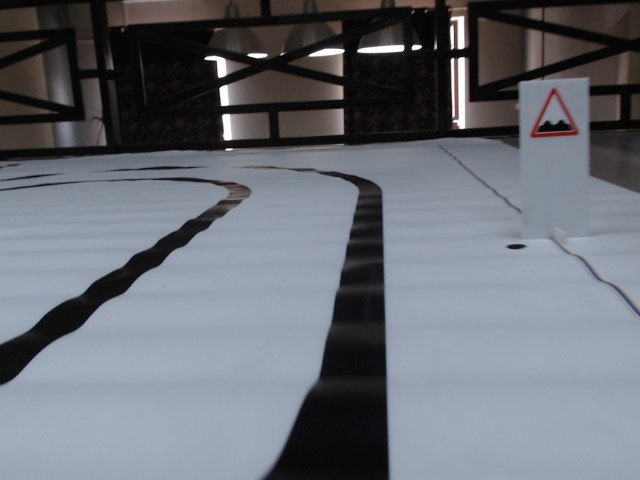Nerov: (530, 86, 584, 142)
